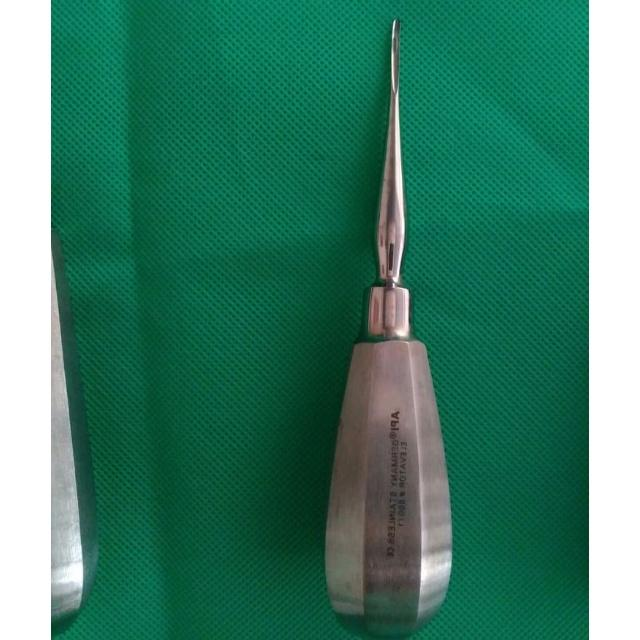botador: (323, 20, 453, 634)
